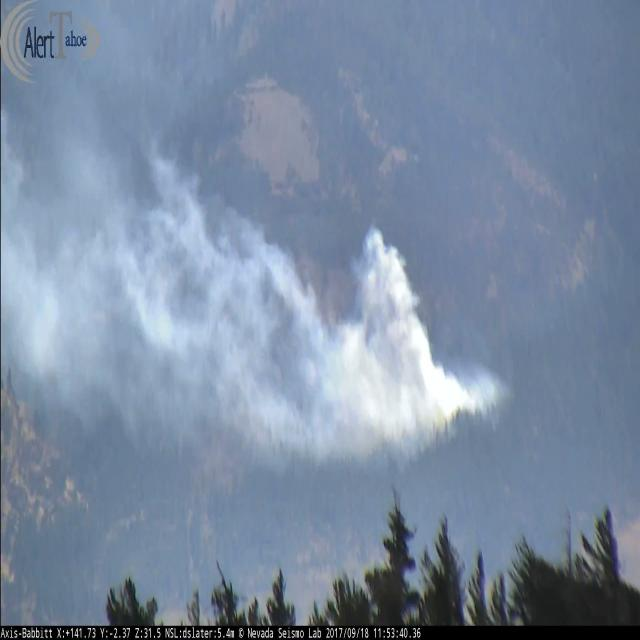smoke: (0, 115, 517, 458)
